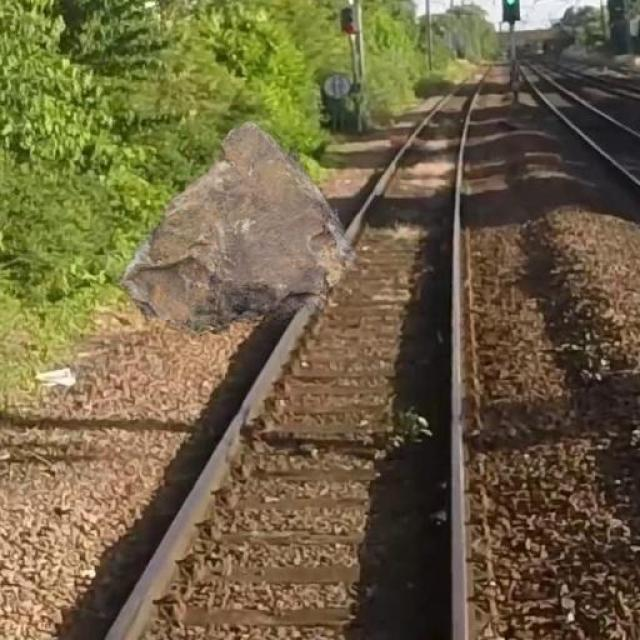Stone: (125, 120, 348, 341)
